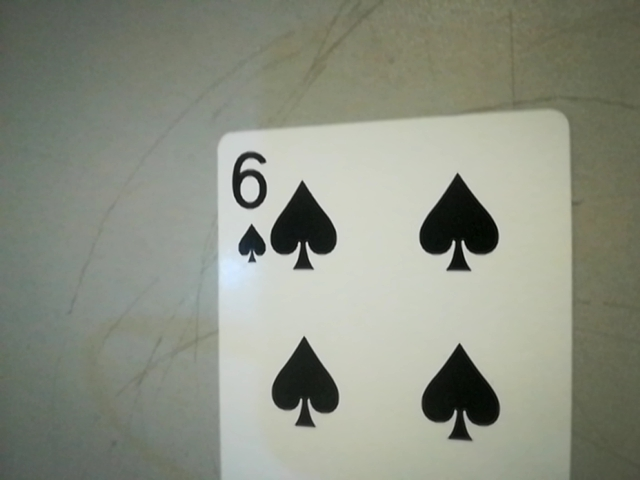ht 6: (218, 140, 275, 266)
